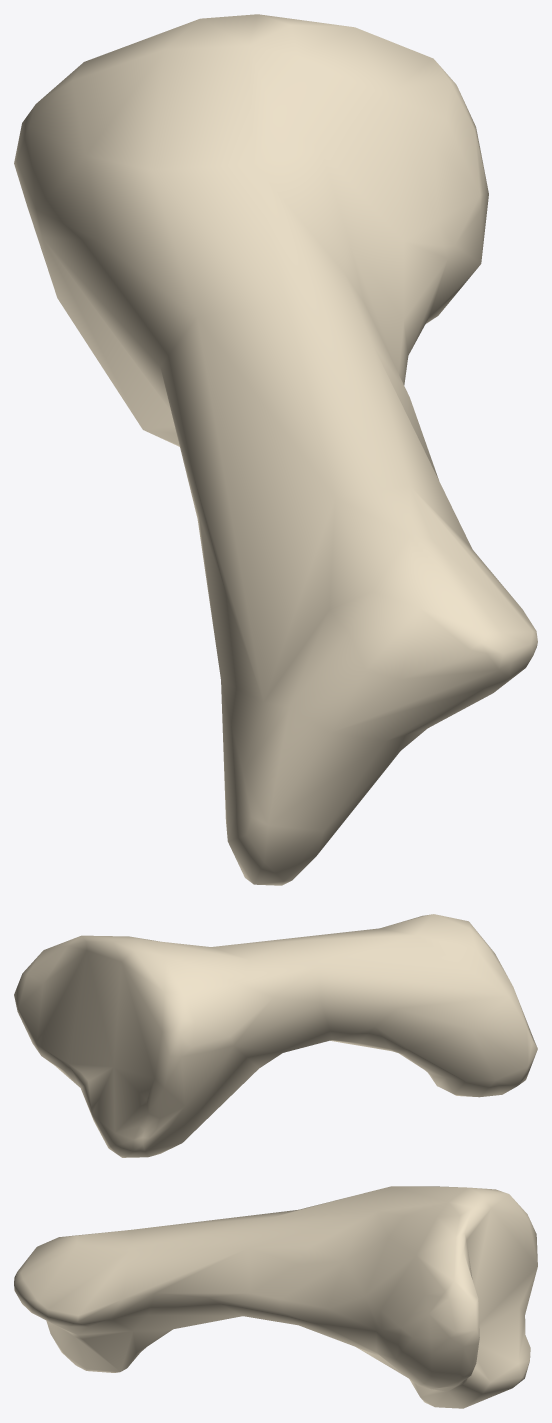
The model's file is proximal-phalanx-of-fourth-finger-of-foot-r.glb.
The picture shows the model from 3 angles, top to bottom: view 1: azimuth 30°, elevation 25°; view 2: azimuth 150°, elevation 25°; view 3: azimuth 270°, elevation 25°; orthographic projection. The views are drawn at different scales.
Parts seen in each view (by area): view 1: Proximal phalanx of fourth finger of foot.r; view 2: Proximal phalanx of fourth finger of foot.r; view 3: Proximal phalanx of fourth finger of foot.r.
Boxes of the visible parts, bbox=[...] form: Proximal phalanx of fourth finger of foot.r: bbox=[14, 14, 537, 885]; Proximal phalanx of fourth finger of foot.r: bbox=[14, 914, 537, 1157]; Proximal phalanx of fourth finger of foot.r: bbox=[14, 1186, 537, 1408].
Bounding box in the file's own units: 0.0181 × 0.0138 × 0.026.
